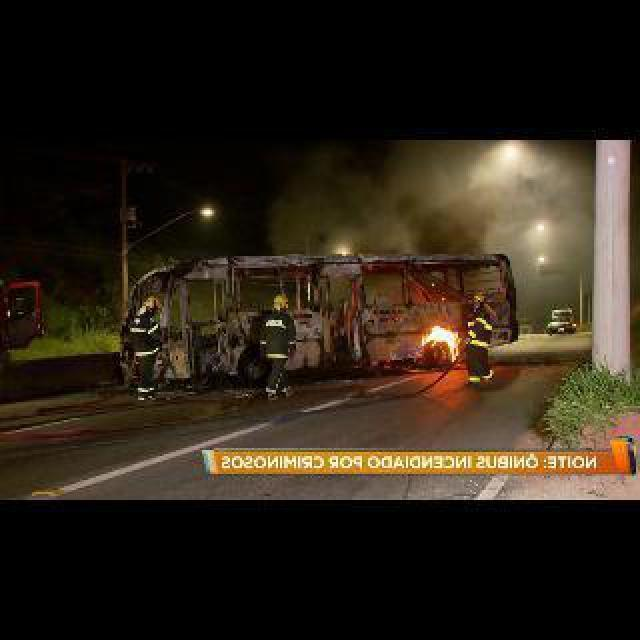Fire: (422, 324, 464, 362)
Smoke: (398, 168, 506, 280)
